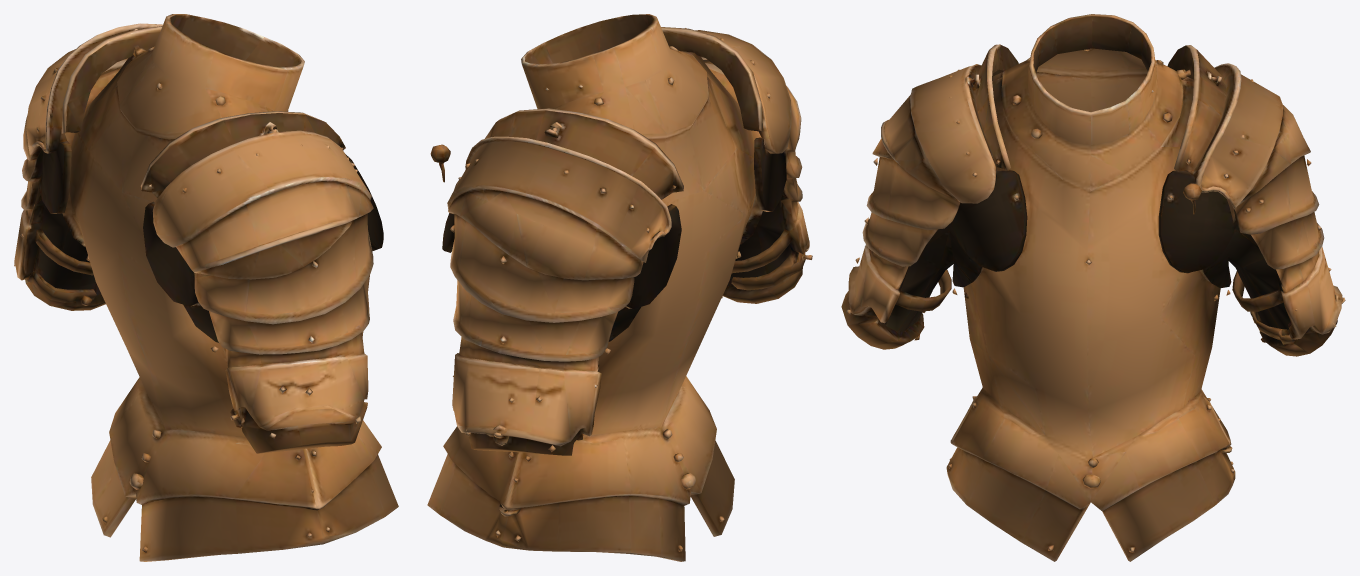
Rendered from bronze_platebody.glb.
The picture shows the model from 3 angles, left to right: view 1: azimuth 30°, elevation 25°; view 2: azimuth 150°, elevation 25°; view 3: azimuth 270°, elevation 25°; orthographic projection. The views are drawn at different scales.
Parts seen in each view (by area): view 1: tripo_node_bc80c6f8-d932-48cd-8371-e106c18d9efe; view 2: tripo_node_bc80c6f8-d932-48cd-8371-e106c18d9efe; view 3: tripo_node_bc80c6f8-d932-48cd-8371-e106c18d9efe.
Part boxes in pixels (x1=…): tripo_node_bc80c6f8-d932-48cd-8371-e106c18d9efe: x1=14, y1=14, x2=398, y2=561; tripo_node_bc80c6f8-d932-48cd-8371-e106c18d9efe: x1=427, y1=14, x2=812, y2=561; tripo_node_bc80c6f8-d932-48cd-8371-e106c18d9efe: x1=841, y1=14, x2=1345, y2=561.
Size of the model in its own units: 0.5488 by 0.998 by 0.9746.
Materials: 1 (1 with a texture image).
